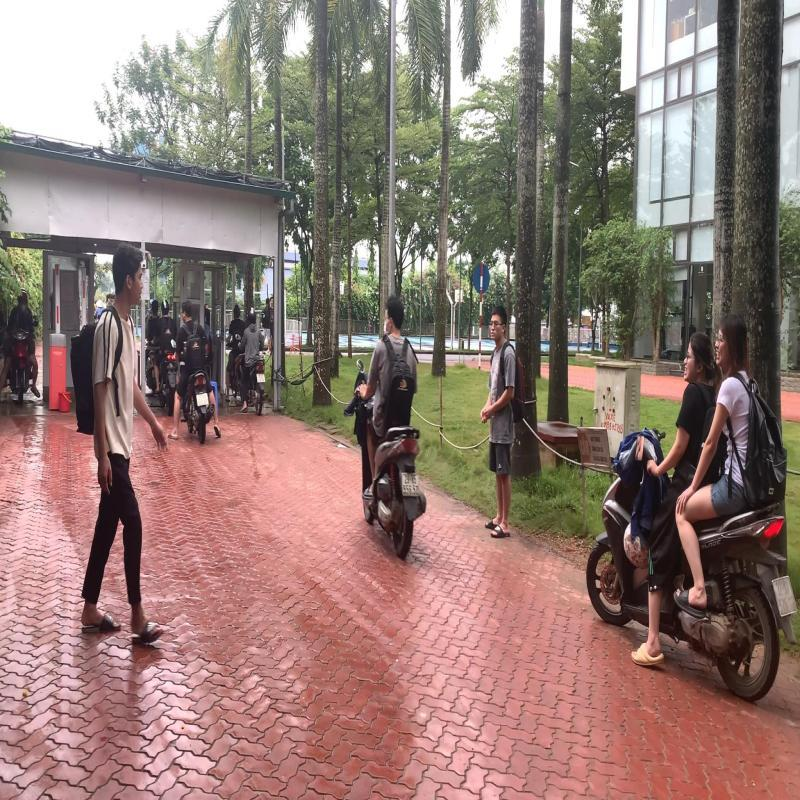licenseplate: (772, 576, 798, 616), (402, 472, 420, 496)
motorcyclist: (583, 308, 800, 702), (344, 292, 430, 564)
nohelmet: (716, 314, 747, 368), (684, 331, 716, 380), (385, 294, 404, 332)
